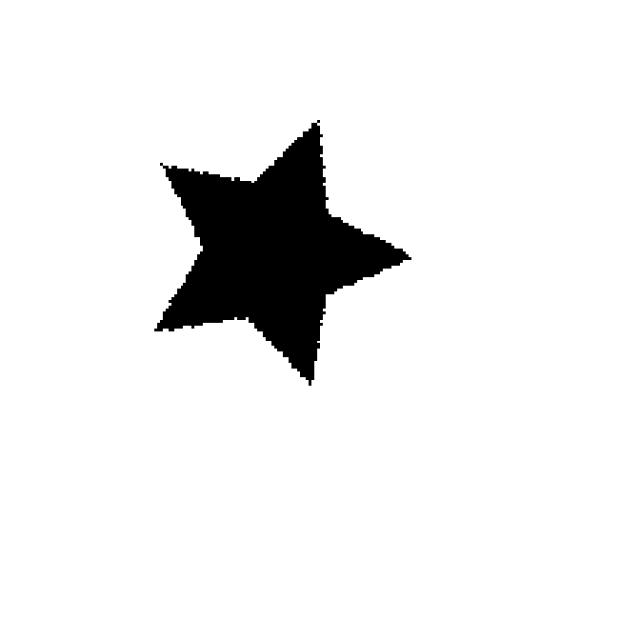Star: (137, 86, 467, 461)
